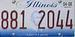placa de veiculo: (0, 0, 74, 36)
